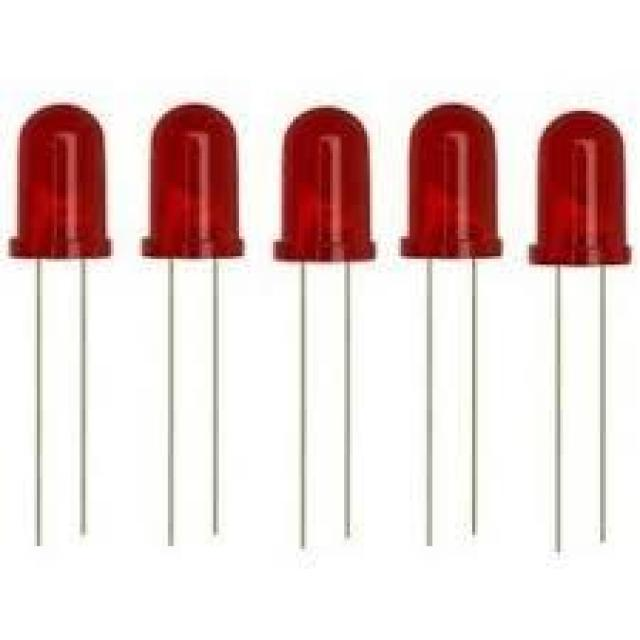Led: (142, 104, 242, 546), (530, 111, 630, 552), (11, 105, 110, 544), (275, 108, 375, 538), (401, 105, 501, 389)
